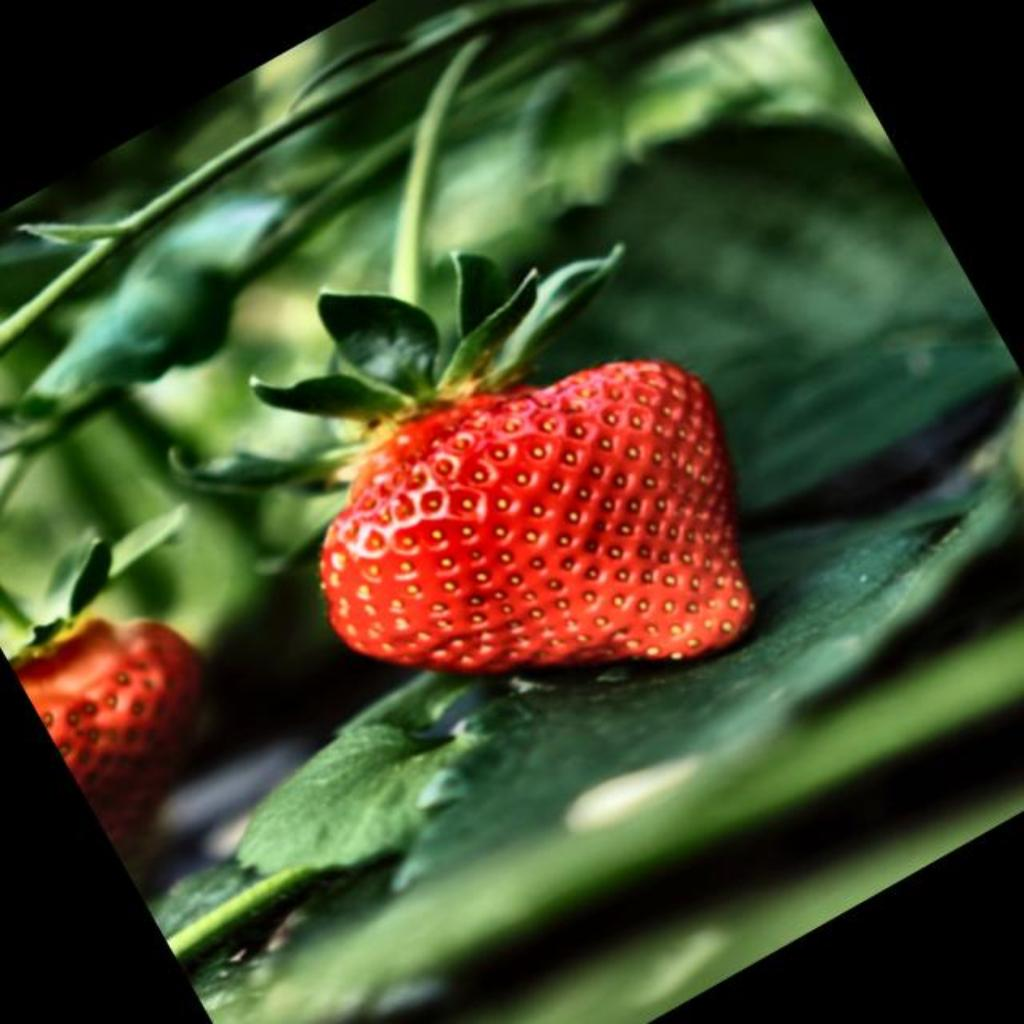strawberry: (320, 360, 754, 674), (16, 618, 202, 843)
